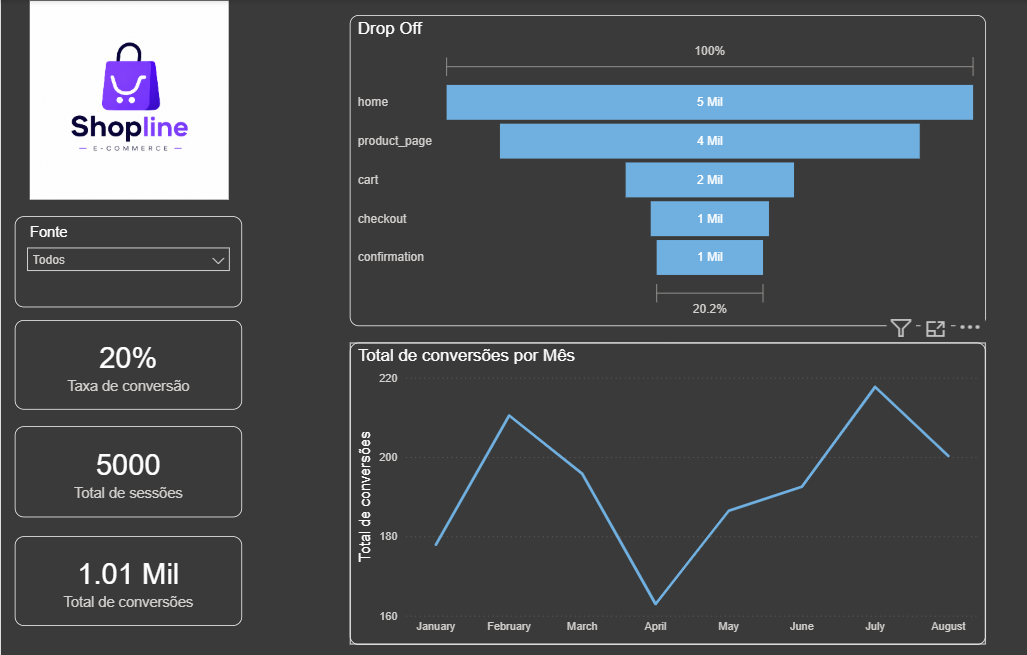

What the dashboard file says about the page in this screenshot:
{"tool":"powerbi","page":{"name":"Página 1","canvas":[1280,720],"ordinal":0},"visuals":[{"type":"funnel","title":"Drop Off","fields":{"Category":["dim_page.PageType"],"Y":["fact_table.sessions_total"]},"box":[653.2,317,509.1,384.2],"z":1000},{"type":"card","fields":{"Values":["fact_table.sessions_total"]},"box":[337.1,167.1,250,100],"z":2000},{"type":"card","fields":{"Values":["fact_table.total_conversion"]},"box":[670,18.6,250,100],"z":3000},{"type":"slicer","fields":{"Values":["dim_session.ReferralSource"]},"box":[670,167.1,250,100],"z":4000},{"type":"card","fields":{"Values":["fact_table.conversion_rate"]},"box":[337.1,18.6,250,100],"z":5000},{"type":"lineChart","fields":{"Y":["fact_table.total_conversion"],"Category":["dim_calendar.MonthName"]},"box":[109.8,317,496.7,384.2],"z":6000},{"type":"image","box":[0,0,278.6,290],"z":7000}]}

Visuals, with their boxes on the page's 1280x720 design canvas (x1, y1, x2, y2). These are canvas units, not pixel positions in the 1027x655 screenshot, which may show the page scaled, cropped or inside an application window:
"Drop Off" funnel: detection(653, 317, 1162, 701)
card - fact_table.sessions_total: detection(337, 167, 587, 267)
card - fact_table.total_conversion: detection(670, 19, 920, 119)
slicer - dim_session.ReferralSource: detection(670, 167, 920, 267)
card - fact_table.conversion_rate: detection(337, 19, 587, 119)
lineChart - fact_table.total_conversion x dim_calendar.MonthName: detection(110, 317, 606, 701)
image: detection(0, 0, 279, 290)
